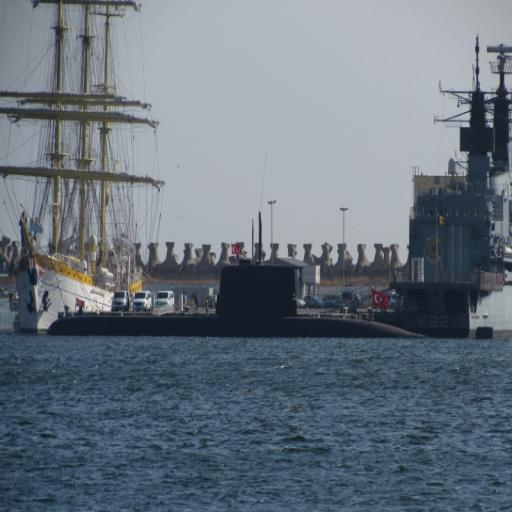submarine: (50, 263, 436, 339), (346, 284, 495, 336)
